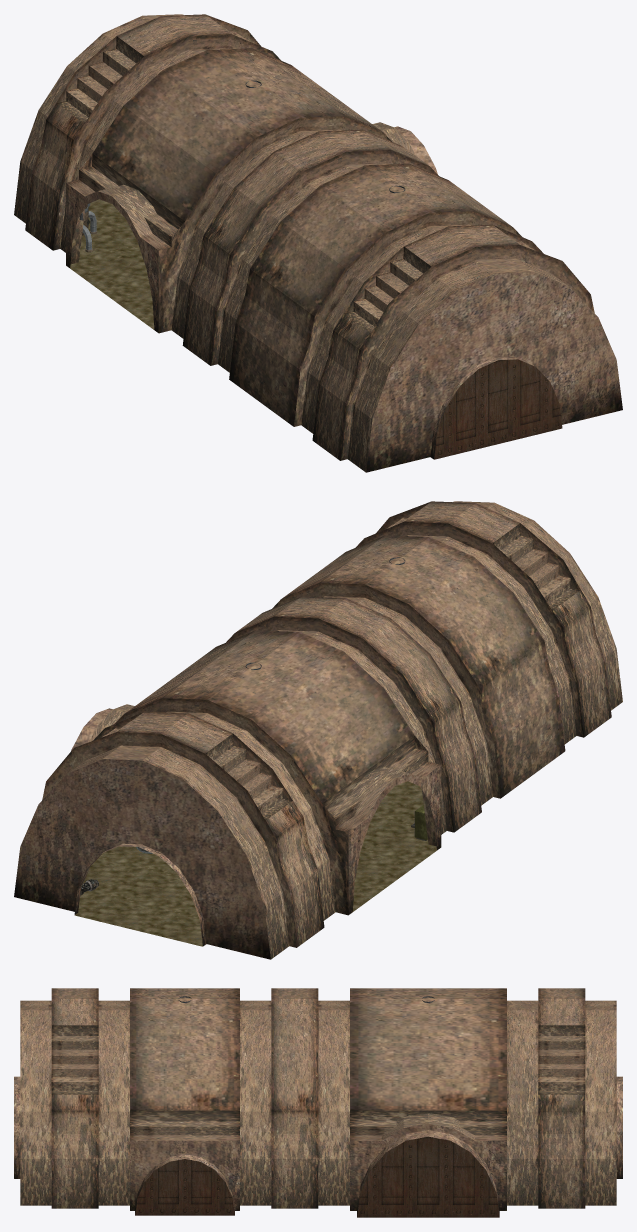
Rendered from thm_tato_jabbas_palace_r38_garage1_mesh_r38.fbx.
The picture shows the model from 3 angles, top to bottom: view 1: azimuth 30°, elevation 25°; view 2: azimuth 150°, elevation 25°; view 3: azimuth 270°, elevation 25°; orthographic projection. The views are drawn at different scales.
Visible parts, largest first — view 1: mesh_node; view 2: mesh_node; view 3: mesh_node.
Boxes of the visible parts, box(x1,y1,x2,y2) form: mesh_node: box(14, 14, 622, 472); mesh_node: box(14, 501, 622, 959); mesh_node: box(14, 988, 622, 1217).
Size of the model in its own units: 18.6 by 10.79 by 38.8.
